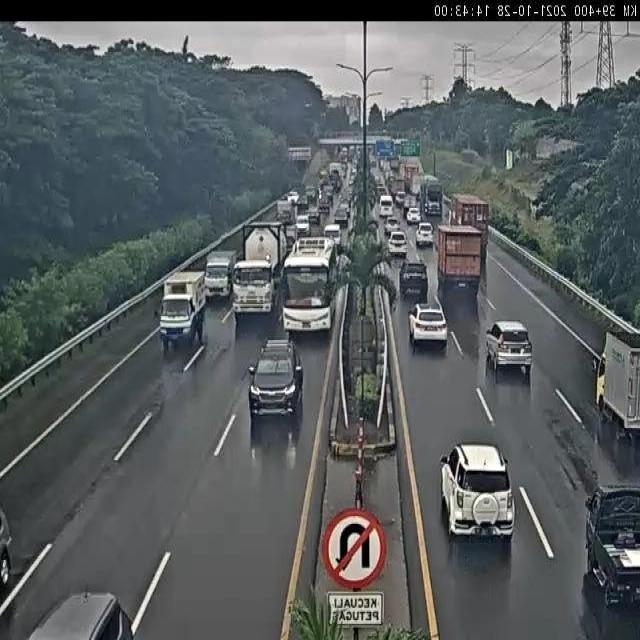Bus: (281, 237, 337, 336)
Car: (580, 482, 640, 610), (441, 447, 515, 545), (26, 587, 140, 640), (247, 342, 305, 431), (485, 320, 533, 372), (407, 302, 449, 346), (397, 260, 430, 296), (387, 231, 408, 256), (322, 223, 341, 248), (415, 222, 435, 244), (295, 215, 311, 235), (382, 218, 402, 233), (333, 208, 348, 224), (406, 209, 422, 224)
Truck: (591, 328, 640, 439), (231, 222, 286, 314), (154, 265, 206, 346), (435, 225, 482, 286), (451, 192, 491, 248), (203, 249, 240, 302), (418, 176, 444, 218)
Van: (379, 194, 394, 218)
